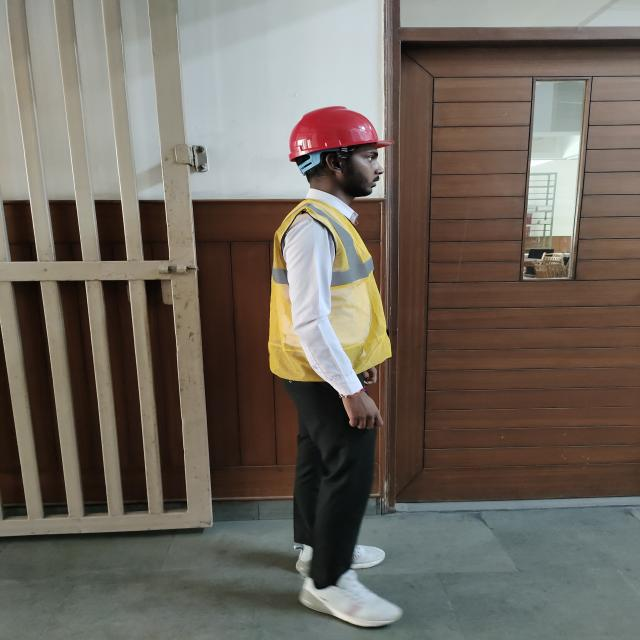safe: (270, 107, 394, 626)
